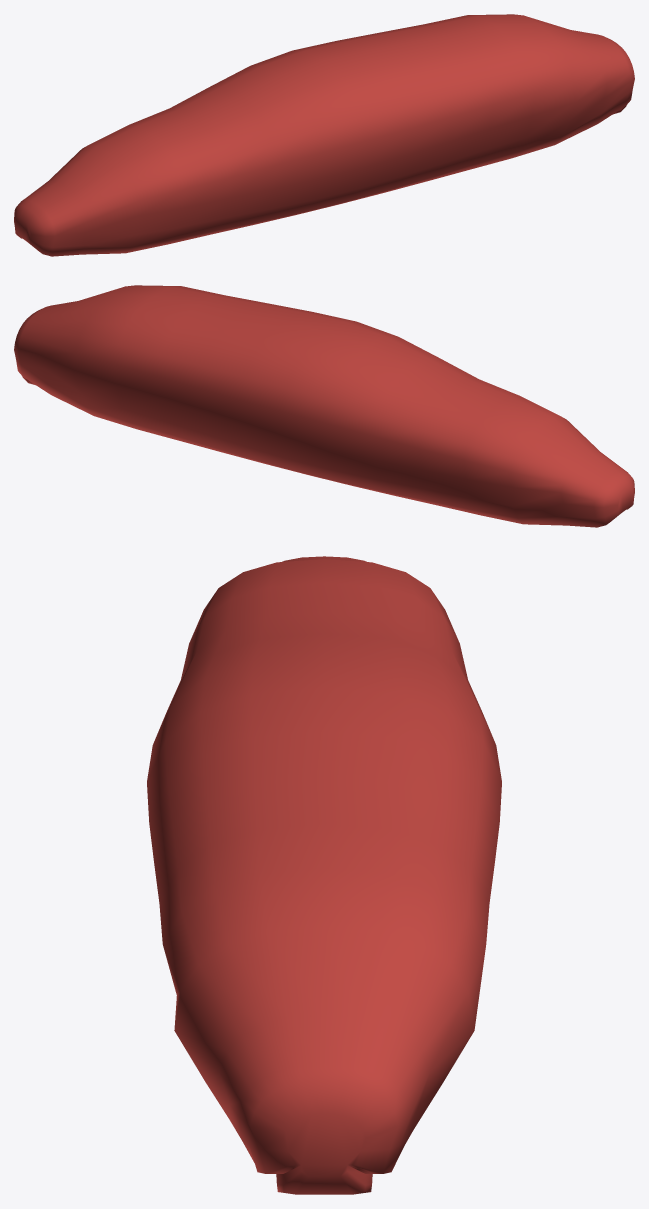
Rendered from enduro_lod1.glb.
The picture shows the model from 3 angles, top to bottom: view 1: azimuth 30°, elevation 25°; view 2: azimuth 150°, elevation 25°; view 3: azimuth 270°, elevation 25°; orthographic projection. The views are drawn at different scales.
Parts seen in each view (by area): view 1: enduro_lod1; view 2: enduro_lod1; view 3: enduro_lod1.
Part boxes in pixels (x1,y1,x2,y2): enduro_lod1: [14, 14, 634, 256]; enduro_lod1: [14, 285, 634, 527]; enduro_lod1: [147, 556, 501, 1194].
Bounding box in the file's own units: 1 × 0.208 × 0.256.
